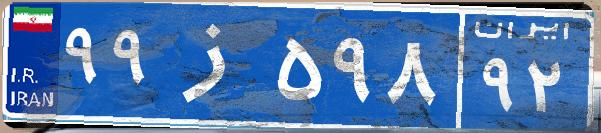2: (525, 38, 570, 115)
5: (273, 28, 330, 110)
8: (385, 28, 445, 110)
9: (330, 28, 385, 110), (57, 26, 110, 107), (475, 38, 525, 113), (110, 28, 158, 105)
ز: (158, 15, 273, 115)
